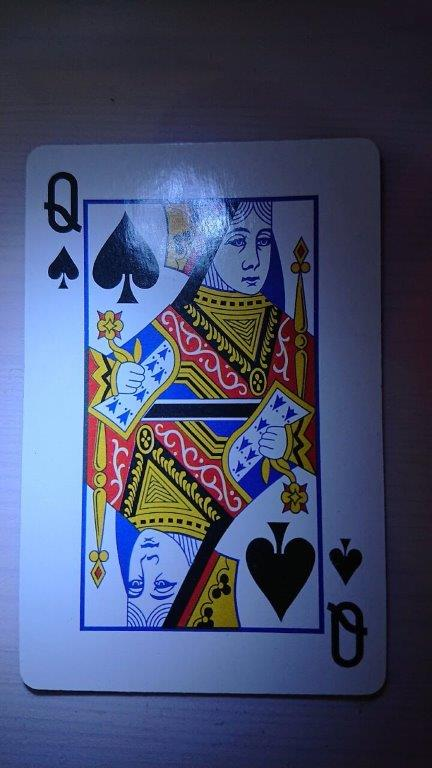QS: (17, 133, 389, 699)
